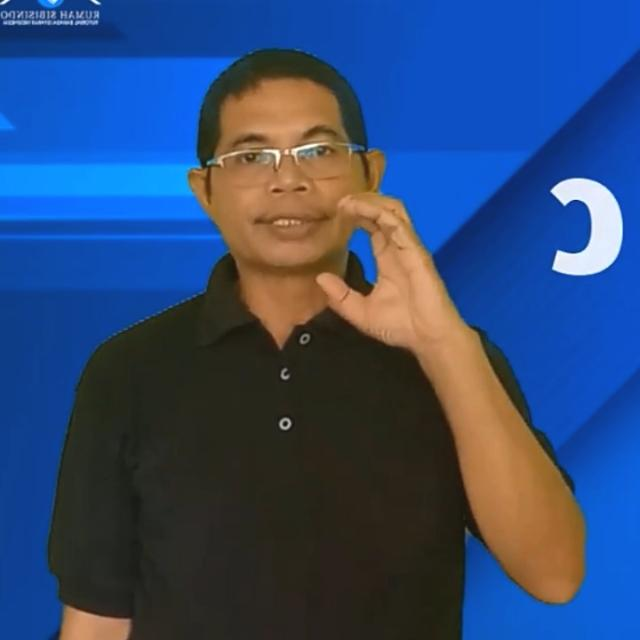C: (316, 188, 464, 360)
